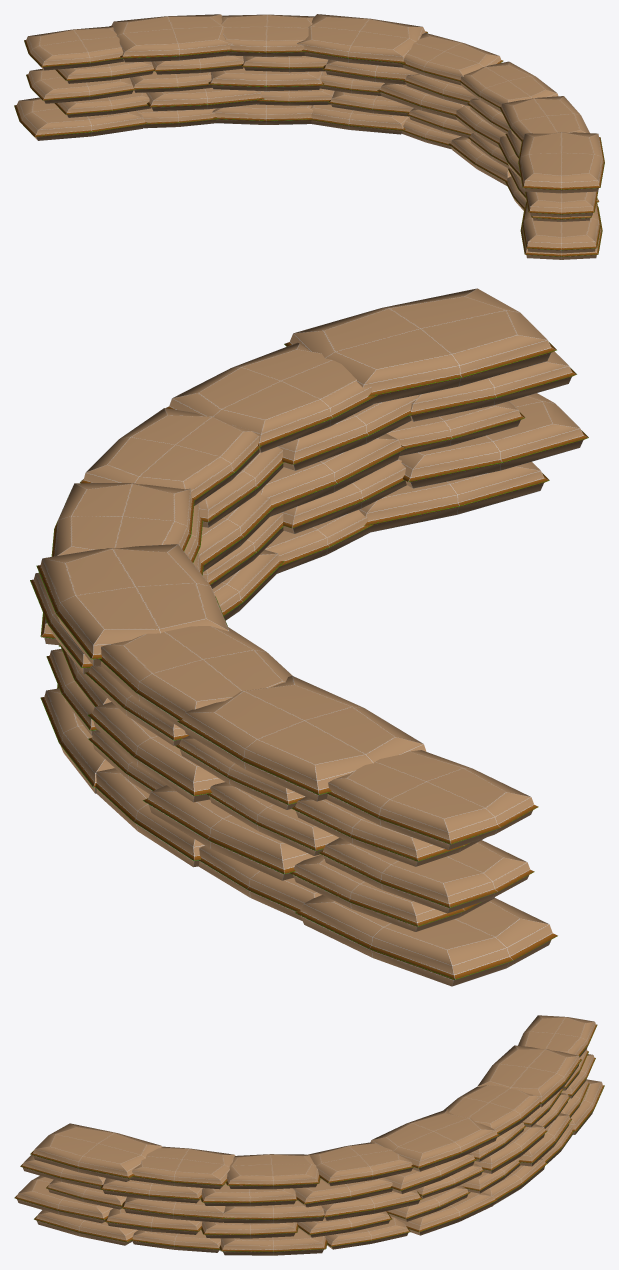
The model's file is SacosTrinchera.fbx.
The picture shows the model from 3 angles, top to bottom: view 1: azimuth 30°, elevation 25°; view 2: azimuth 150°, elevation 25°; view 3: azimuth 270°, elevation 25°; orthographic projection. The views are drawn at different scales.
Parts seen in each view (by area): view 1: Saco; view 2: Saco; view 3: Saco.
Boxes of the visible parts, x1=… form: Saco: x1=14, y1=14, x2=604, y2=259; Saco: x1=30, y1=288, x2=588, y2=986; Saco: x1=14, y1=1015, x2=604, y2=1255.
Bounding box in the file's own units: 57.07 × 12.7 × 81.78.
